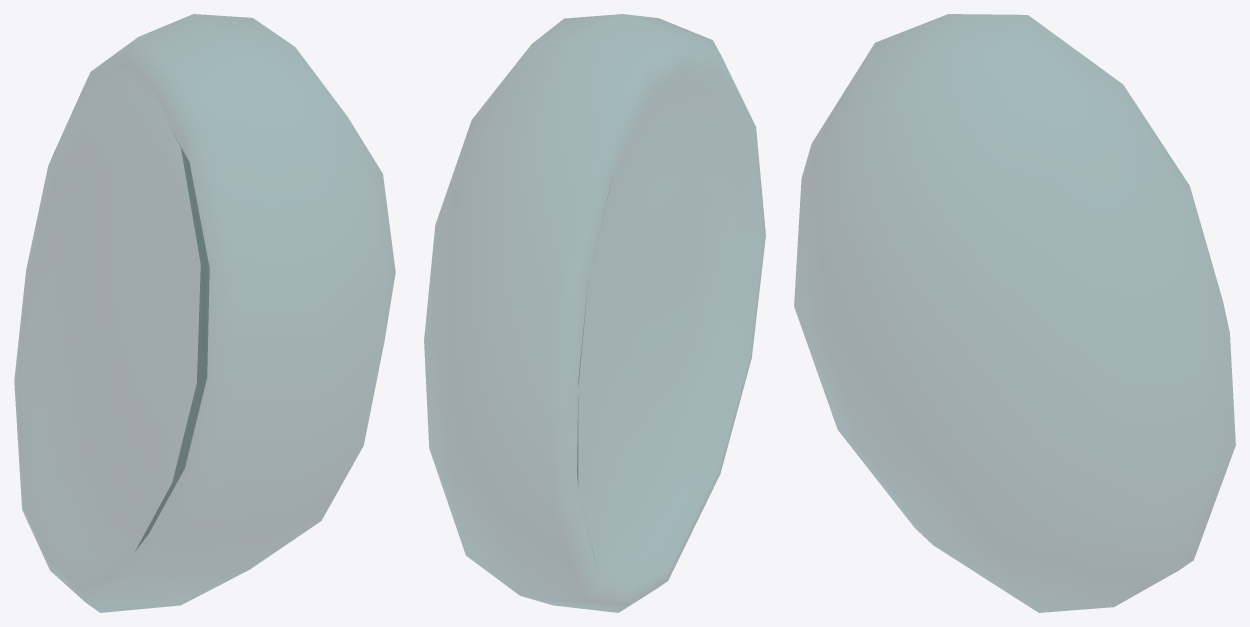
The model's file is Transperent Pons.gltf.
3 views of the same model, side by side, from view 1: azimuth 30°, elevation 25°; view 2: azimuth 150°, elevation 25°; view 3: azimuth 270°, elevation 25° (orthographic). The views are drawn at different scales.
Visible parts, largest first — view 1: Pons; view 2: Pons; view 3: Pons.
Boxes of the visible parts, x1=… form: Pons: x1=14, y1=14, x2=395, y2=612; Pons: x1=424, y1=14, x2=765, y2=612; Pons: x1=794, y1=14, x2=1235, y2=612.
Bounding box in the file's own units: 0.9671 × 2.11 × 1.47.
